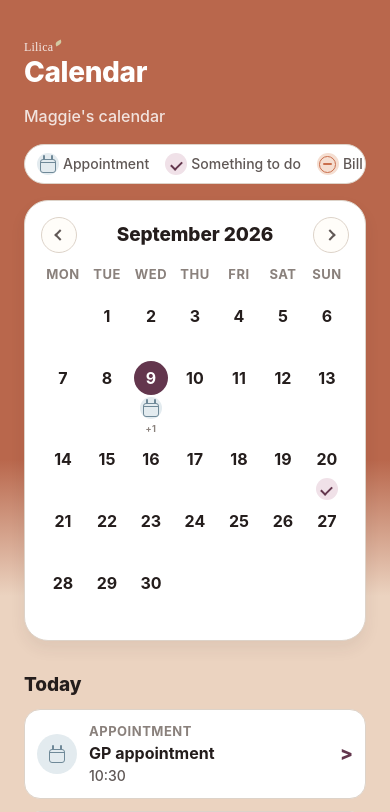
Test: Phase 10: Calendar month/date rendering › selecting a date shows exactly the occurrences due/scheduled that day, including multiple
The width and height of the screenshot is (390, 812).
Expected: the text "GP appointment" is shown, [89,743,214,763]
Expected: the text "Book haircut" is not shown
Step 1. Click the button labelled "20" → click(327, 469), box [305,438,349,500]
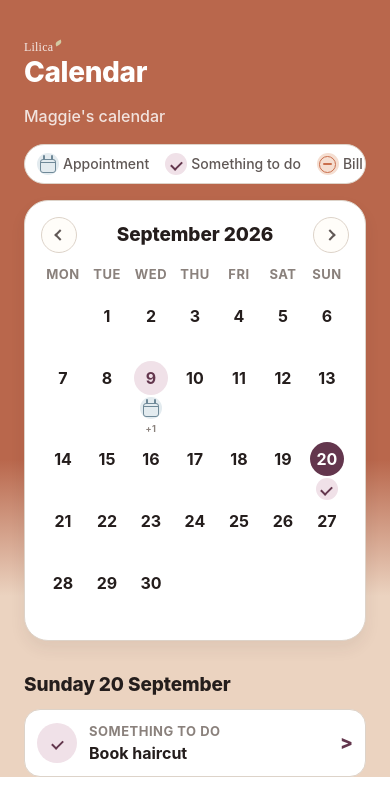
Result: the text "Book haircut" is shown at [89,743,187,763]
Result: the button "GP appointment" is gone
